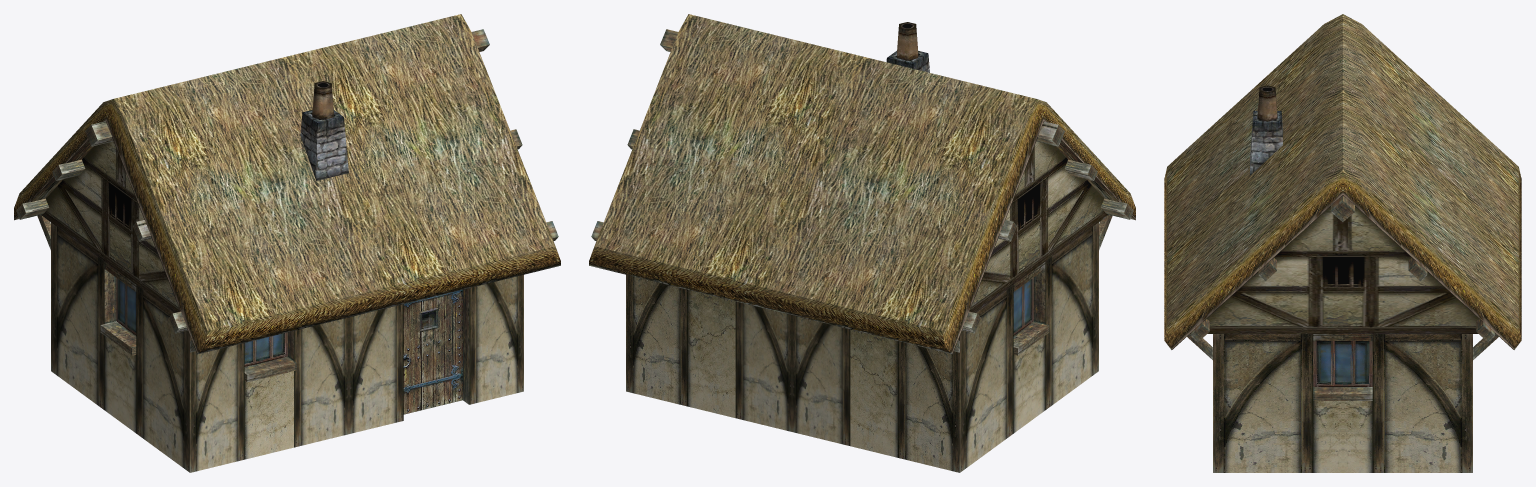
The model's file is S_home31.glb.
The picture shows the model from 3 angles, left to right: view 1: azimuth 30°, elevation 25°; view 2: azimuth 150°, elevation 25°; view 3: azimuth 270°, elevation 25°; orthographic projection. The views are drawn at different scales.
Visible parts, largest first — view 1: S_home31-col; view 2: S_home31-col; view 3: S_home31-col.
Part boxes in pixels (box(x1,y1,x2,y2)): S_home31-col: box(14, 14, 560, 472); S_home31-col: box(589, 14, 1135, 472); S_home31-col: box(1164, 14, 1521, 472).
Size of the model in its own units: 7.17 by 5.71 by 6.05.
Materials: 9 (9 with a texture image).
